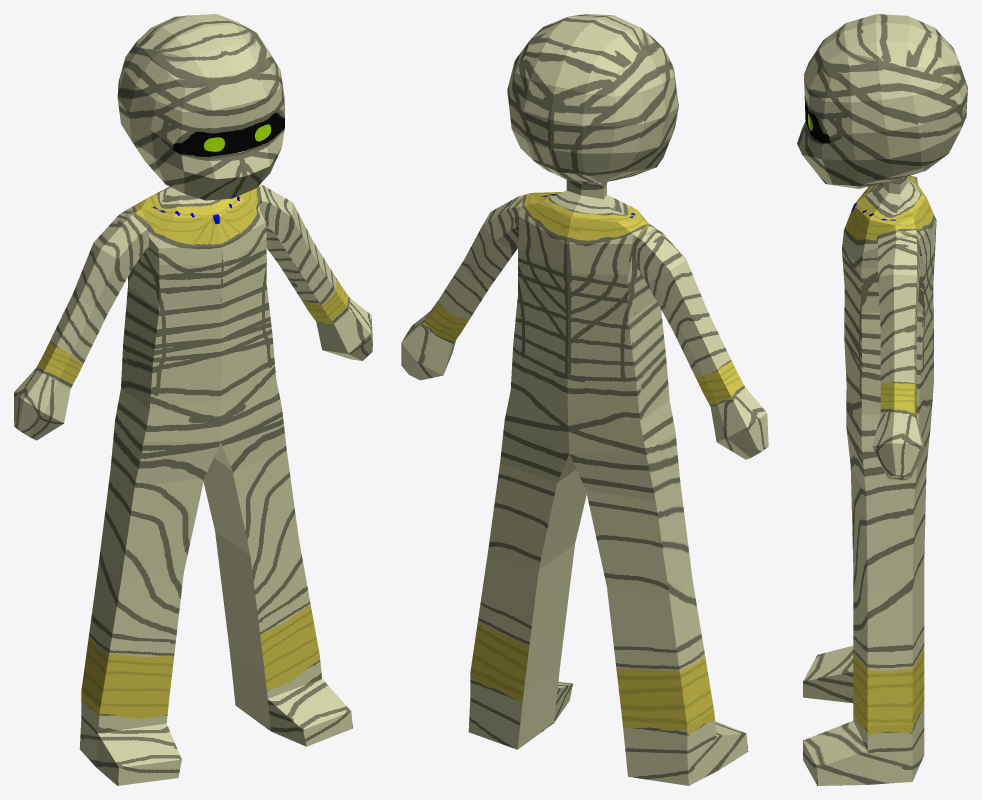
Rendered from Mumia_Alternativa.fbx.
3 views of the same model, side by side, from view 1: azimuth 30°, elevation 25°; view 2: azimuth 150°, elevation 25°; view 3: azimuth 270°, elevation 25° (orthographic). The views are drawn at different scales.
Visible parts, largest first — view 1: Cube; view 2: Cube; view 3: Cube.
Part boxes in pixels (box(x1,y1,x2,y2)): Cube: box(14, 14, 372, 785); Cube: box(401, 14, 768, 785); Cube: box(797, 14, 967, 785).
Bounding box in the file's own units: 492 × 942 × 206.
